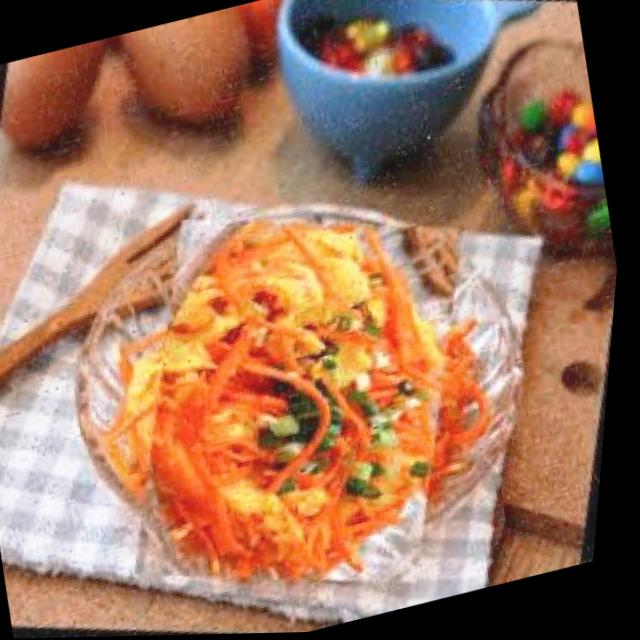carrot_eggs: (37, 139, 623, 635)
